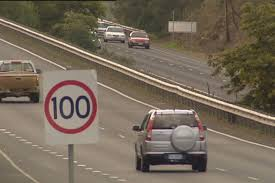Speed_limit_100km: (44, 80, 98, 134)
car: (131, 109, 208, 173), (102, 25, 126, 44), (127, 30, 150, 49)
